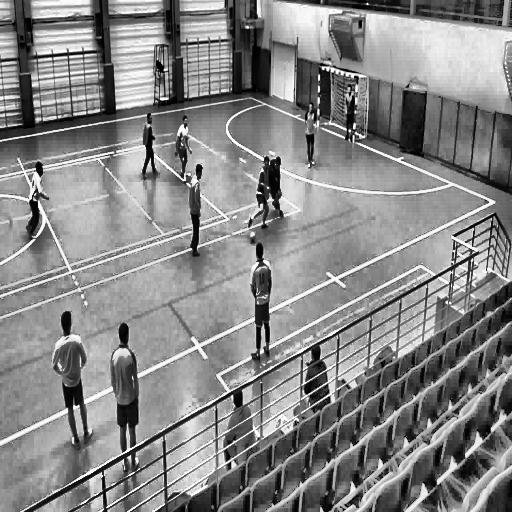ball: (250, 231, 257, 245)
player: (50, 309, 97, 454), (108, 320, 144, 476), (249, 242, 274, 364), (25, 162, 51, 244), (246, 156, 271, 232), (188, 165, 204, 261), (139, 110, 160, 182), (173, 114, 193, 184), (268, 155, 286, 223), (303, 100, 319, 172), (342, 83, 355, 144)
